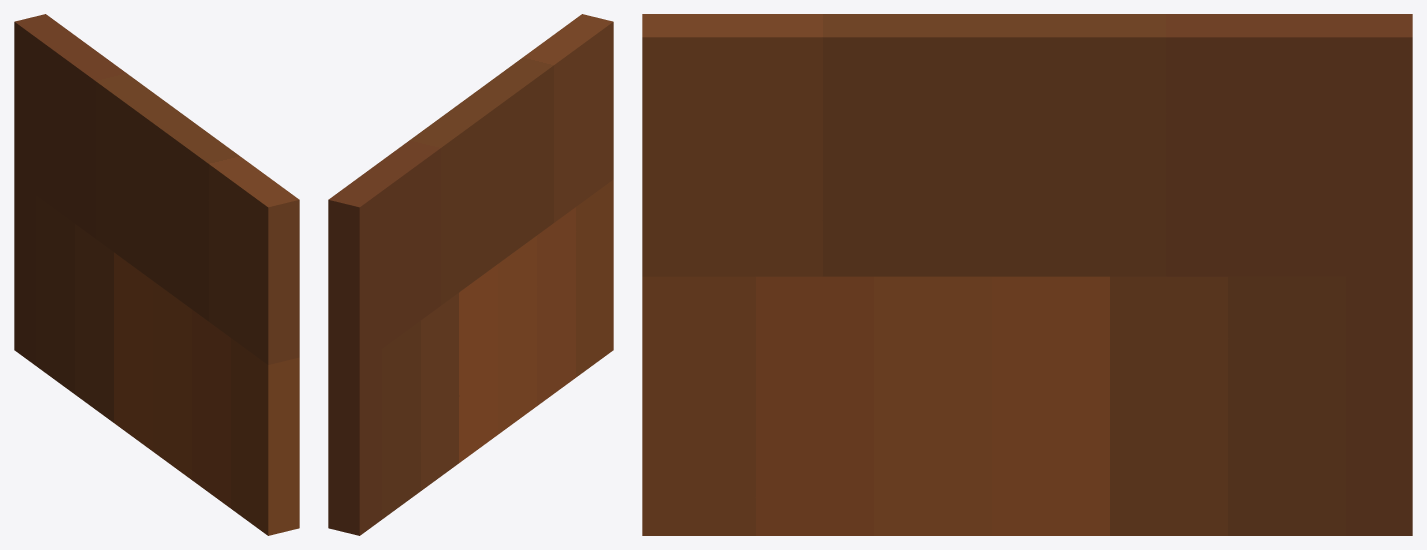
File: SM_Wall.fbx
3 views of the same model, side by side, from view 1: azimuth 30°, elevation 25°; view 2: azimuth 150°, elevation 25°; view 3: azimuth 270°, elevation 25° (orthographic). The views are drawn at different scales.
Parts seen in each view (by area): view 1: wall; view 2: wall; view 3: wall.
Part boxes in pixels (x1,y1,x2,y2): wall: (14, 14, 299, 535); wall: (328, 14, 613, 535); wall: (642, 14, 1412, 535).
Bounding box in the file's own units: 5 × 50 × 70.
